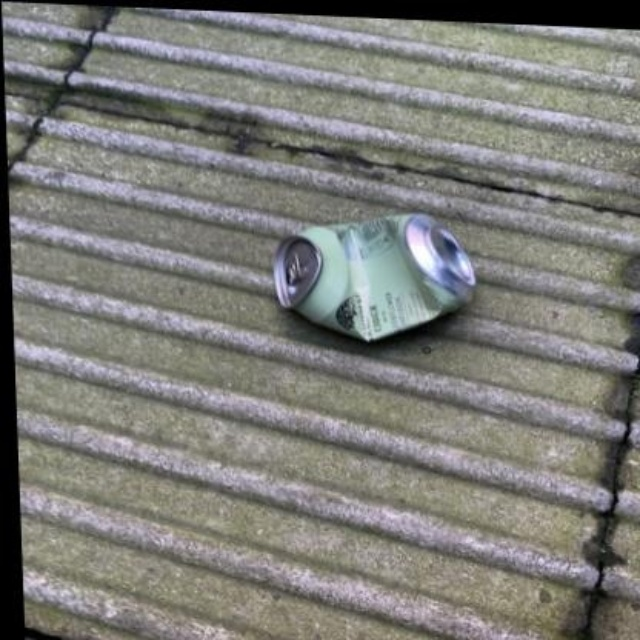trash: (274, 214, 474, 340)
